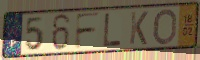5: (24, 16, 46, 53)
6: (51, 12, 72, 53)
F: (73, 11, 102, 51)
K: (128, 10, 150, 46)
L: (102, 13, 123, 48)
O: (152, 8, 178, 47)
